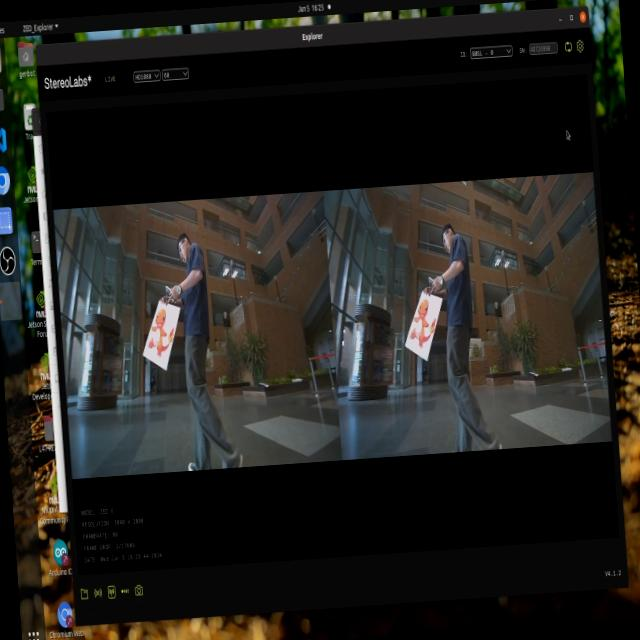red: (409, 298, 437, 350), (148, 307, 174, 360)
